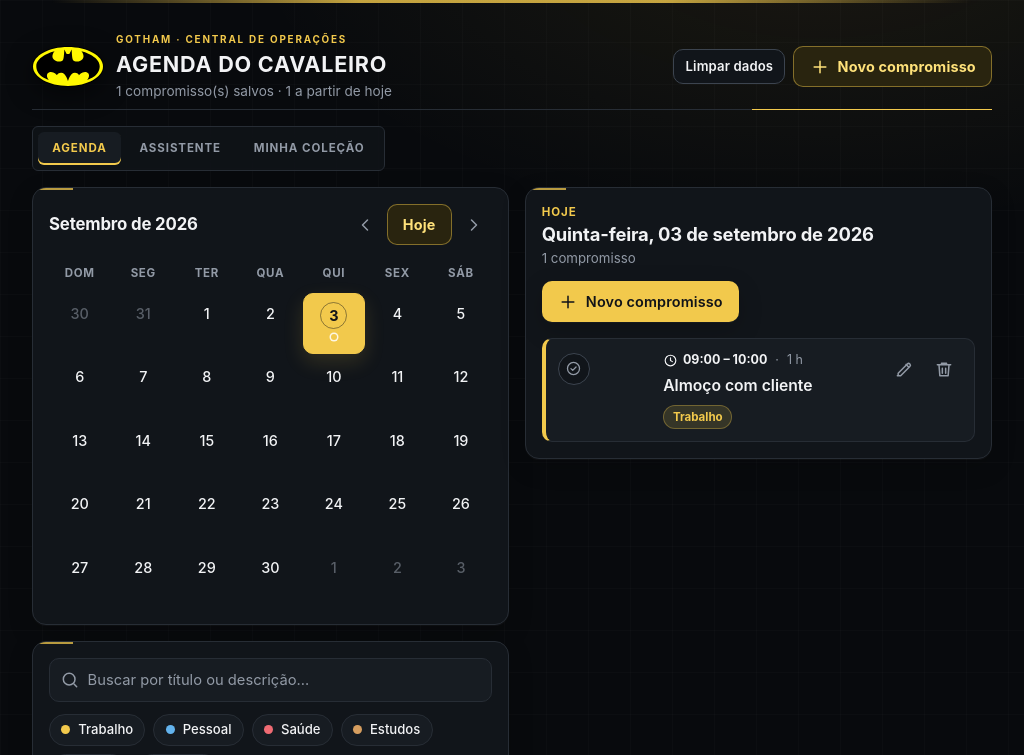
Test: exclusão › remove o compromisso ao confirmar
The image size is (1024, 755).
Step 1. Click the button named "Excluir compromisso Almoço com cliente" → (944,369), box [926,351,962,387]
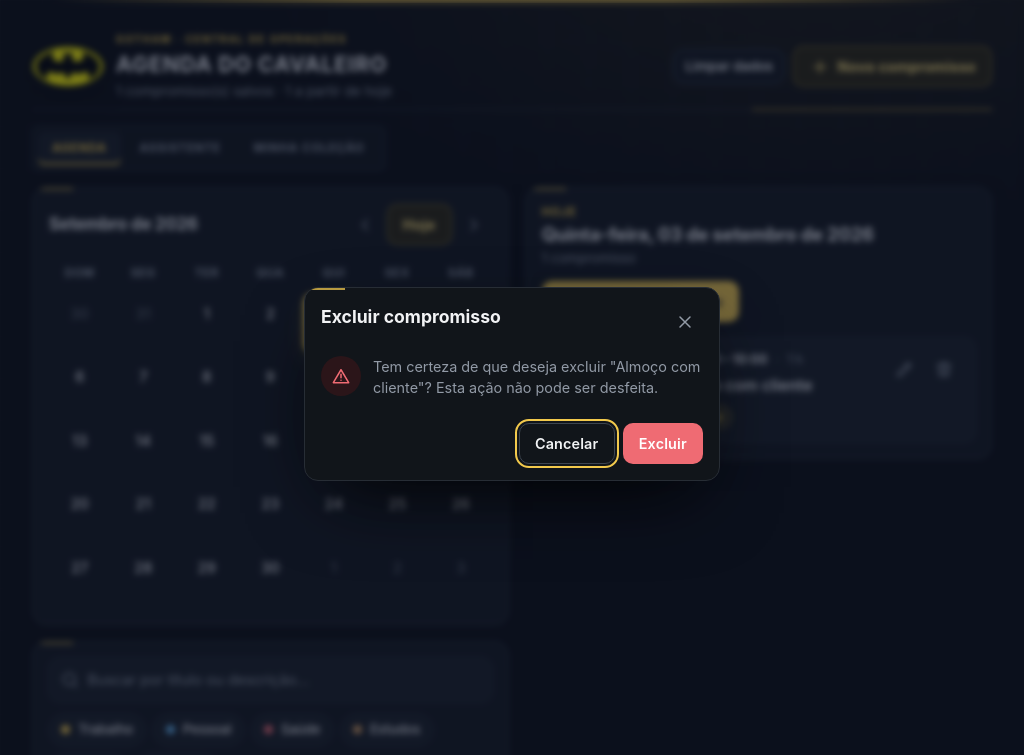
Step 2. Click the button "Excluir" → (663,444), box [623,423,703,464]
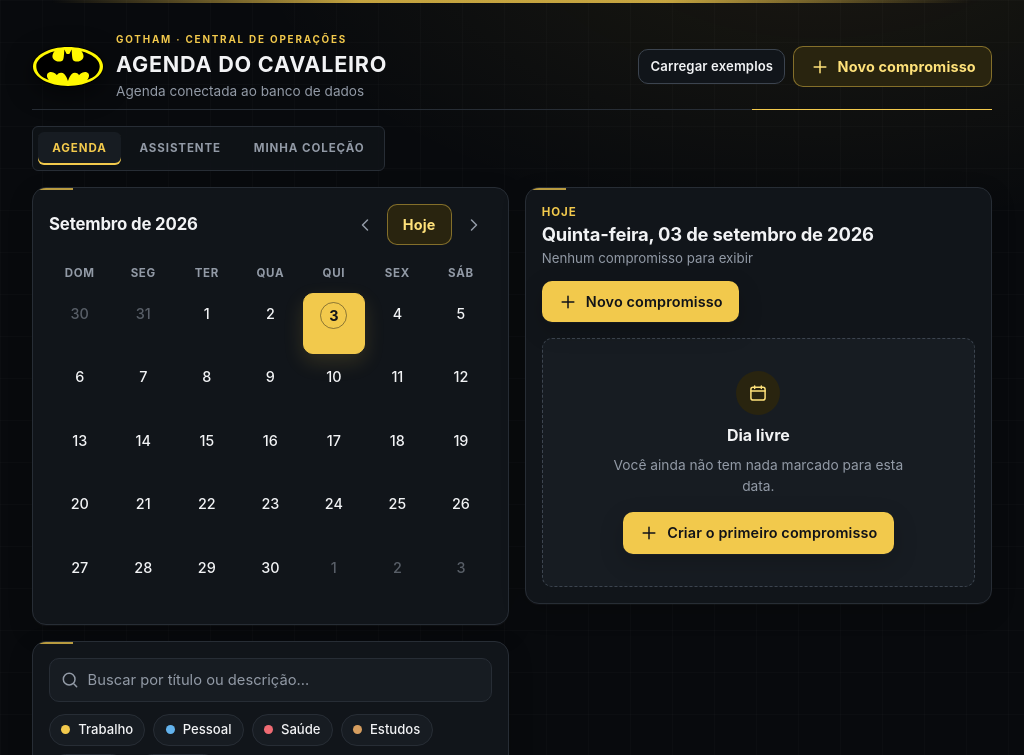
Expected: the heading "Almoço com cliente" is gone
Expected: the text "Dia livre" is shown, [727,423,790,447]
